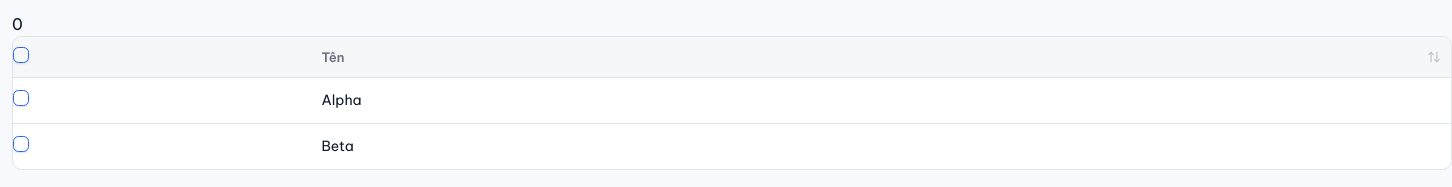
selection column › checking two rows populates rowSelection with two keys
# Re-query between clicks — the table re-renders and replaces the nodes.
Click the checkbox named "Chọn dòng" in the row of "Alpha".
click(21, 98)  # box [13,90,29,106]
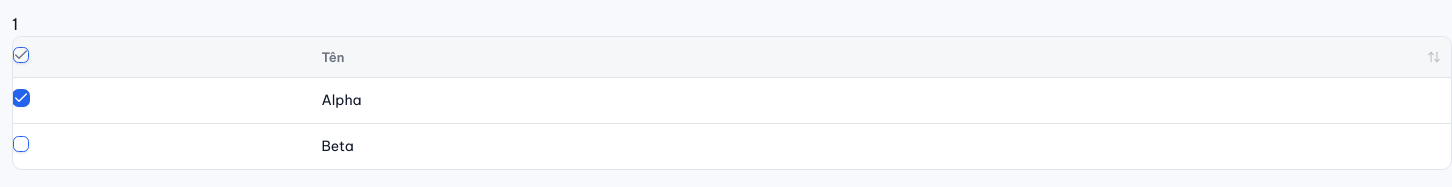
Click the checkbox named "Chọn dòng" in the row of "Beta".
click(21, 144)  # box [13,136,29,152]
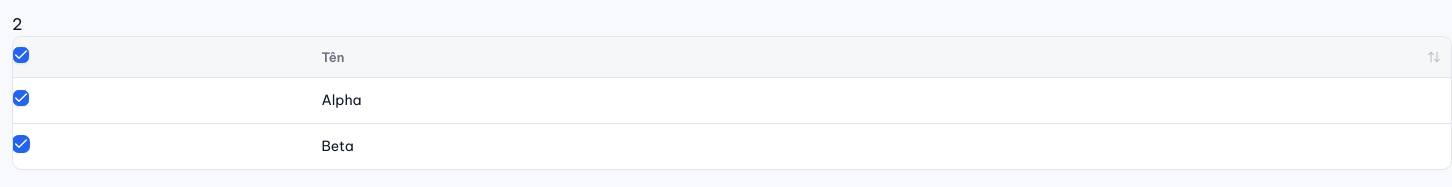
Expected: the text with test id "count" reads "2", [12,14,22,34]
